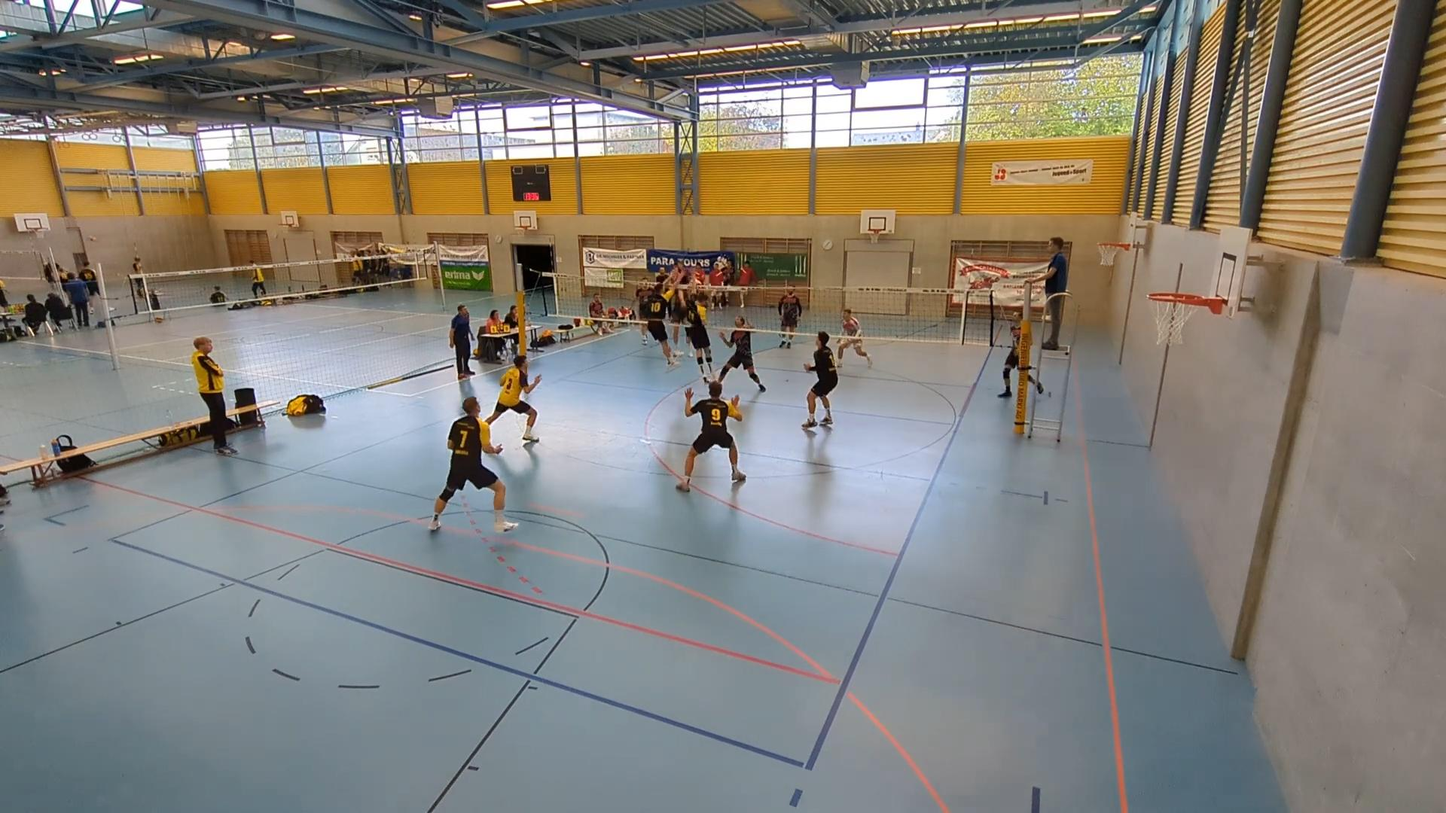Block: (644, 251, 684, 364), (675, 287, 719, 383)
Player: (429, 397, 516, 532), (676, 382, 745, 492), (485, 354, 541, 442), (718, 315, 765, 391), (802, 331, 837, 429), (666, 262, 691, 346), (837, 309, 871, 367), (998, 323, 1020, 397), (777, 285, 801, 346), (634, 283, 651, 346)
